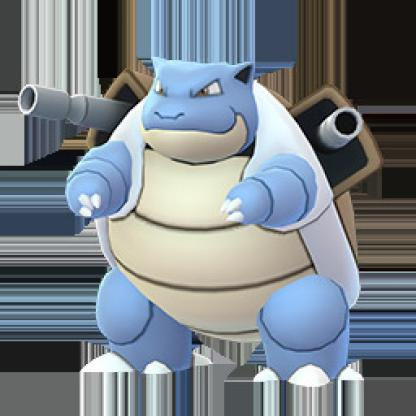Blastoise: (29, 46, 380, 395)
